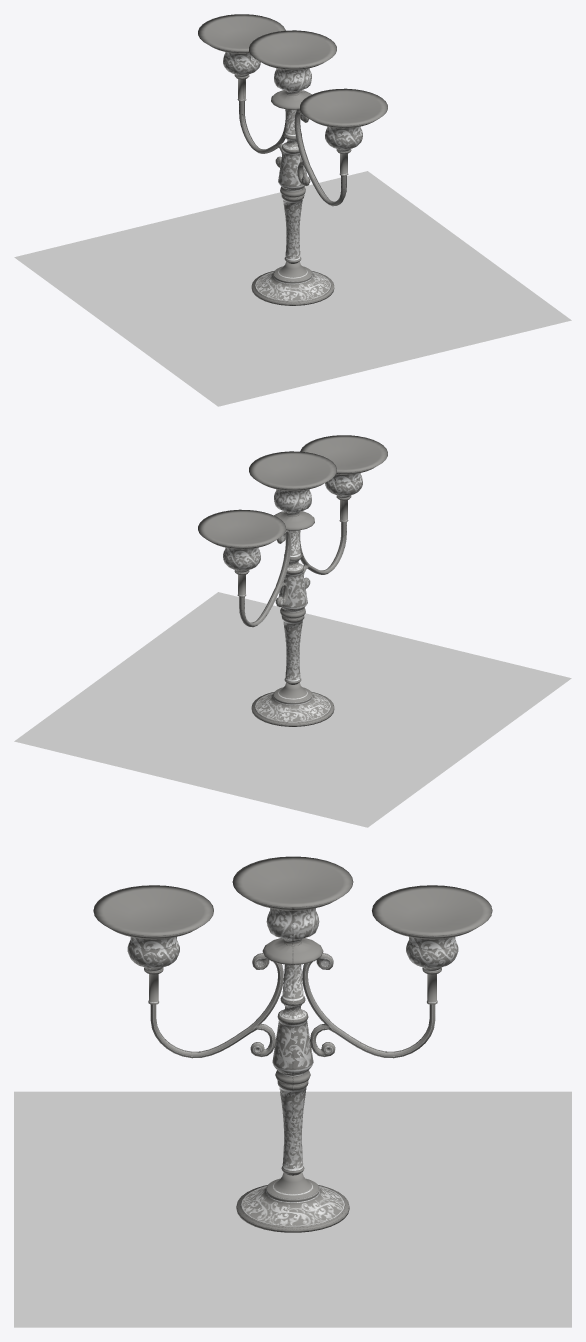
Rendered from candlestick.fbx.
3 views of the same model, one above another, from view 1: azimuth 30°, elevation 25°; view 2: azimuth 150°, elevation 25°; view 3: azimuth 270°, elevation 25° (orthographic). The views are drawn at different scales.
Visible parts, largest first — view 1: Plane, rightleft_lp, main_lp, base_lp, rail_lp; view 2: Plane, rightleft_lp, main_lp, base_lp, rail_lp; view 3: Plane, rightleft_lp, main_lp, base_lp, rail_lp.
Boxes of the visible parts, x1,y1,x2,y2 form: Plane: (14,171,571,406); rightleft_lp: (198,14,387,176); main_lp: (249,30,336,263); base_lp: (251,261,334,305); rail_lp: (239,100,346,206); Plane: (14,592,571,827); rightleft_lp: (198,435,387,597); main_lp: (249,451,336,684); base_lp: (251,682,334,726); rail_lp: (239,522,346,627); Plane: (14,1091,571,1327); rightleft_lp: (93,885,492,1004); main_lp: (232,856,353,1175); base_lp: (236,1172,349,1232); rail_lp: (150,953,435,1058).
Bounding box in the file's own units: 2033 × 1317 × 2033.
